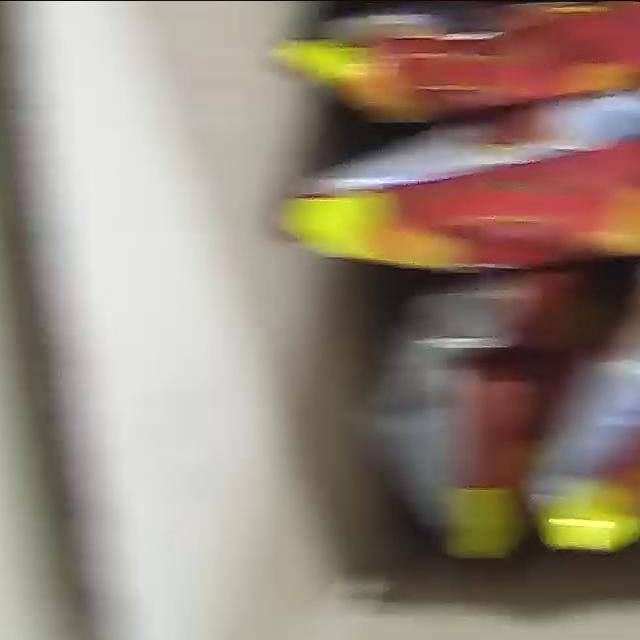masala: (237, 0, 640, 558)
